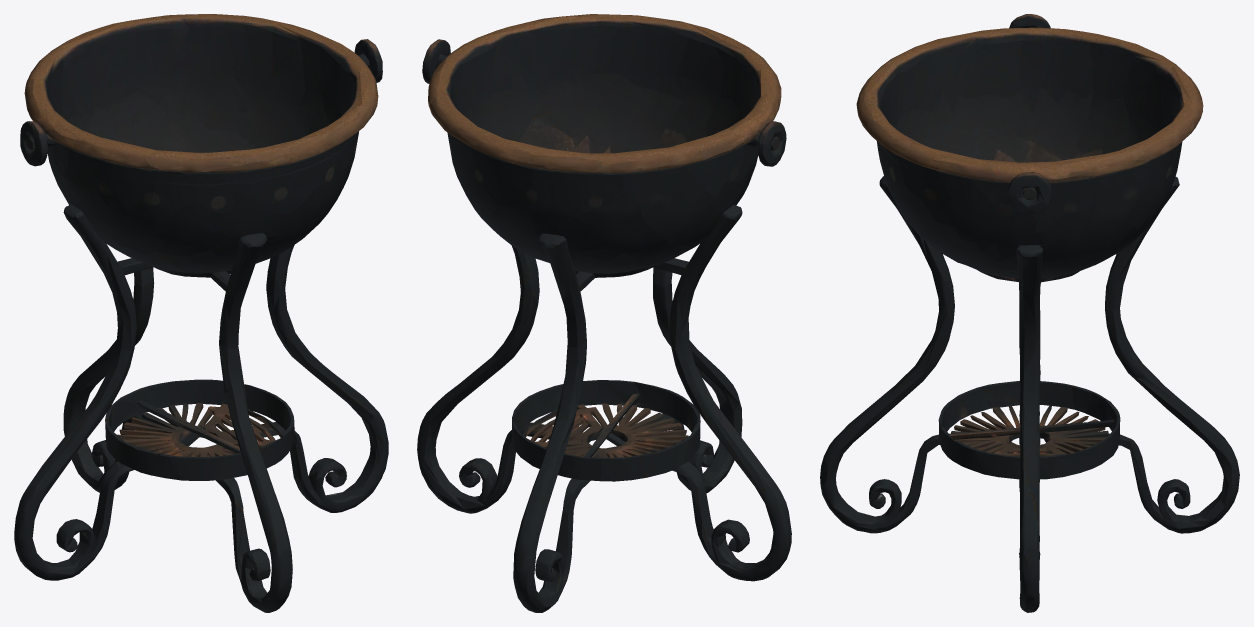
Rendered from brazier.glb.
3 renders of one model, left to right at view 1: azimuth 30°, elevation 25°; view 2: azimuth 150°, elevation 25°; view 3: azimuth 270°, elevation 25°, orthographic. The views are drawn at different scales.
Size of the model in its own units: 1.6 by 1.9 by 1.61.
Materials: 1 (1 with a texture image).
